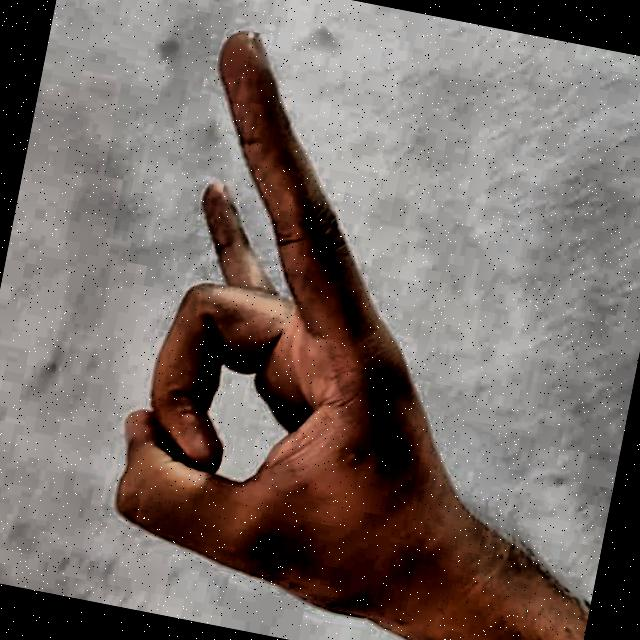Cha: (46, 0, 549, 640)
